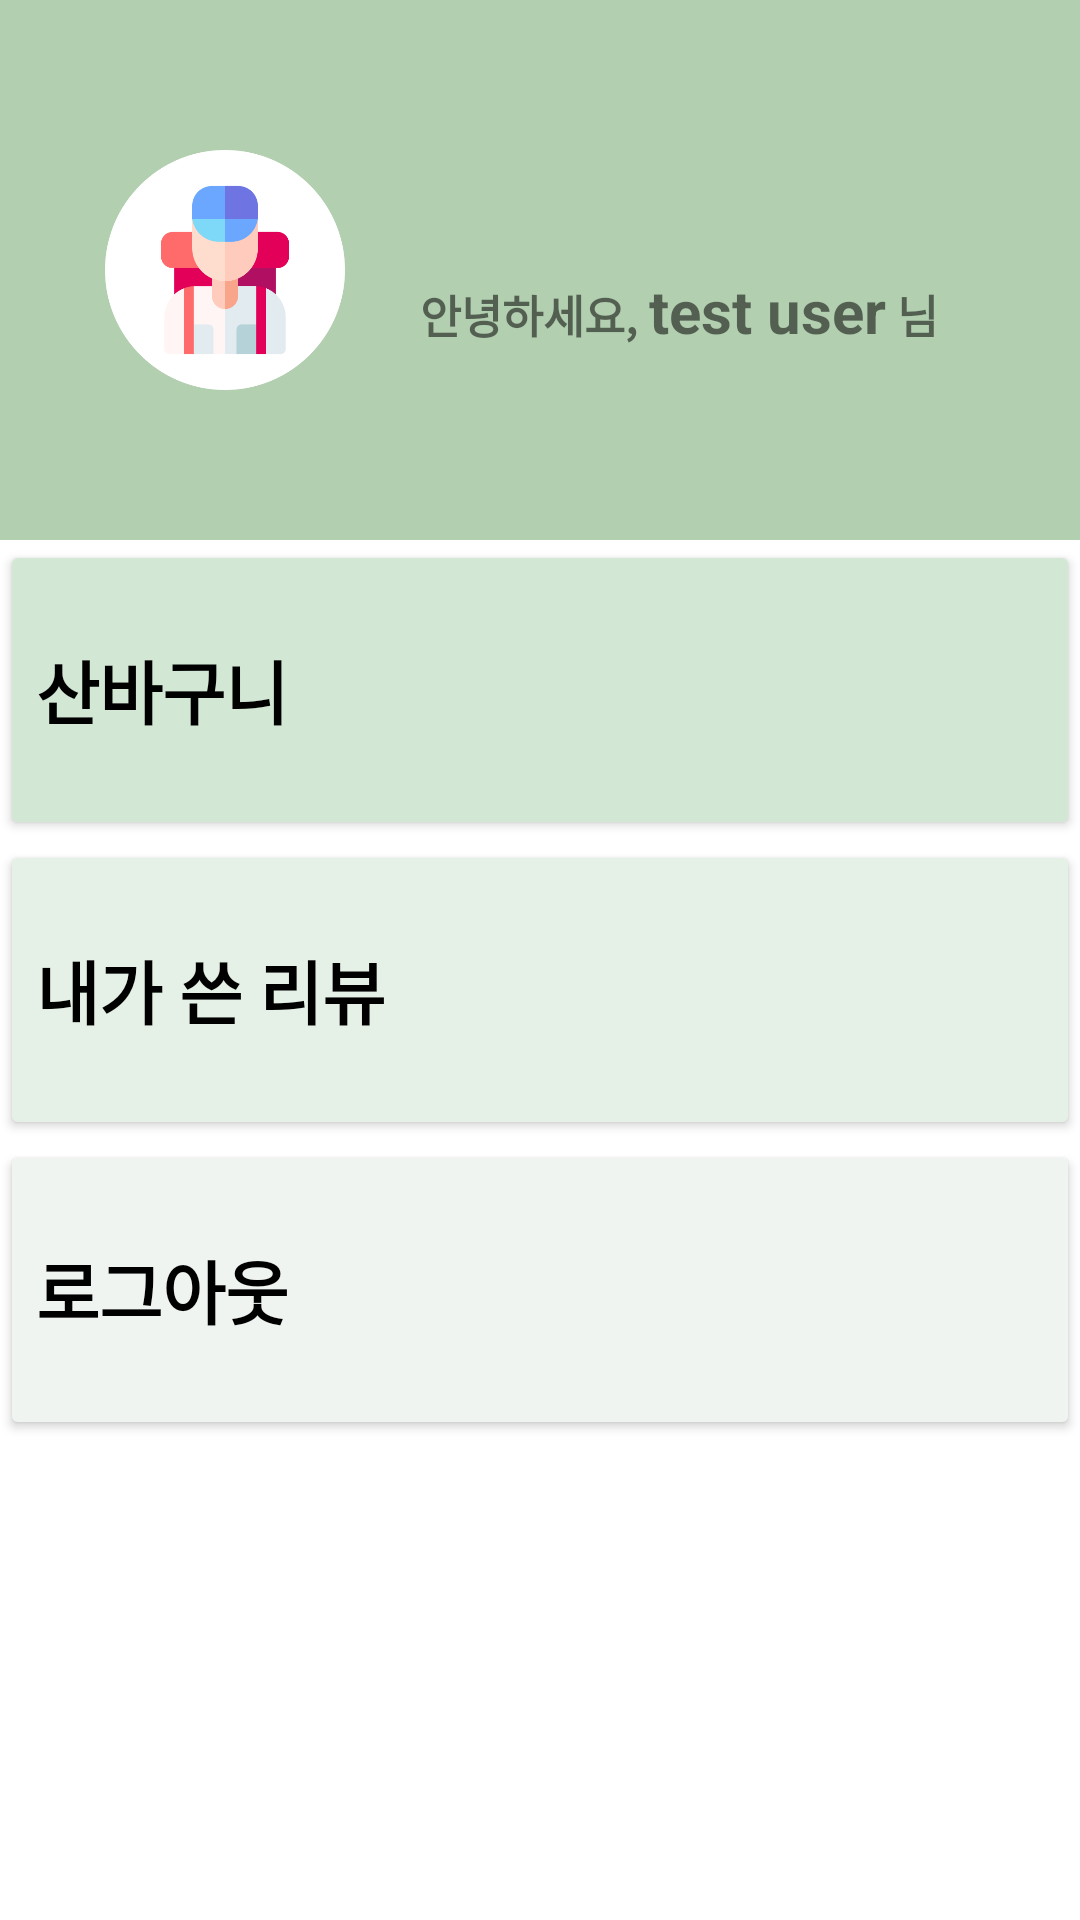

Point at icon controls on the screen. Image size 1080w x 1920h, points as (x=x, y=y).
user: (x=225, y=270)
